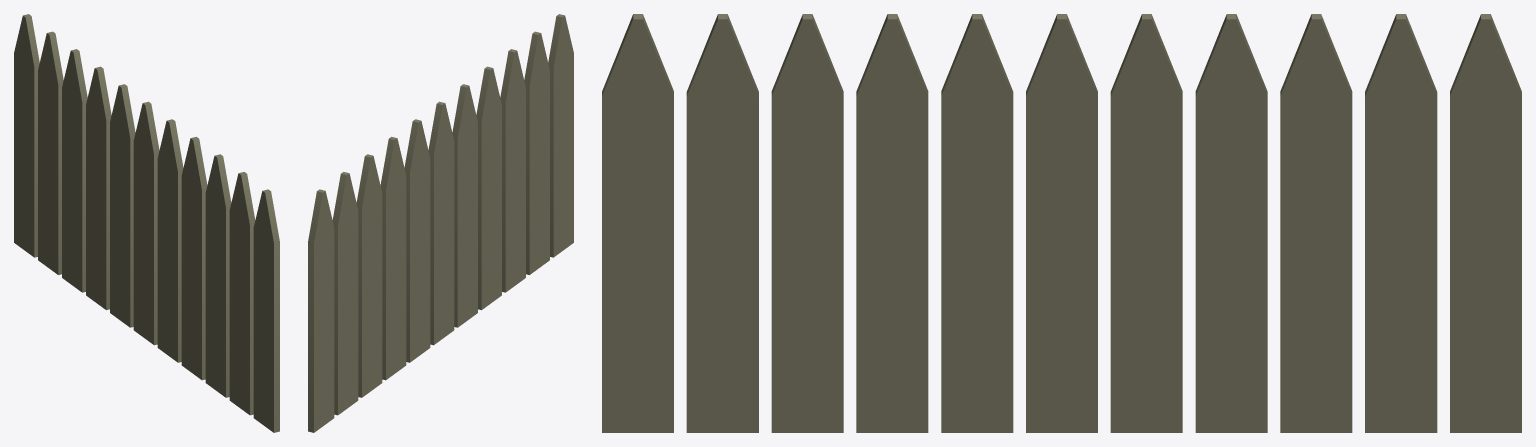
Rendered from PropsFance1.fbx.
The picture shows the model from 3 angles, left to right: view 1: azimuth 30°, elevation 25°; view 2: azimuth 150°, elevation 25°; view 3: azimuth 270°, elevation 25°; orthographic projection. The views are drawn at different scales.
Visible parts, largest first — view 1: PropsFance1; view 2: PropsFance1; view 3: PropsFance1.
Part boxes in pixels (bbox=[...]): PropsFance1: bbox=[14, 14, 279, 432]; PropsFance1: bbox=[308, 14, 573, 432]; PropsFance1: bbox=[602, 14, 1521, 432].
Bounding box in the file's own units: 0.0522 × 1.93 × 3.89.
